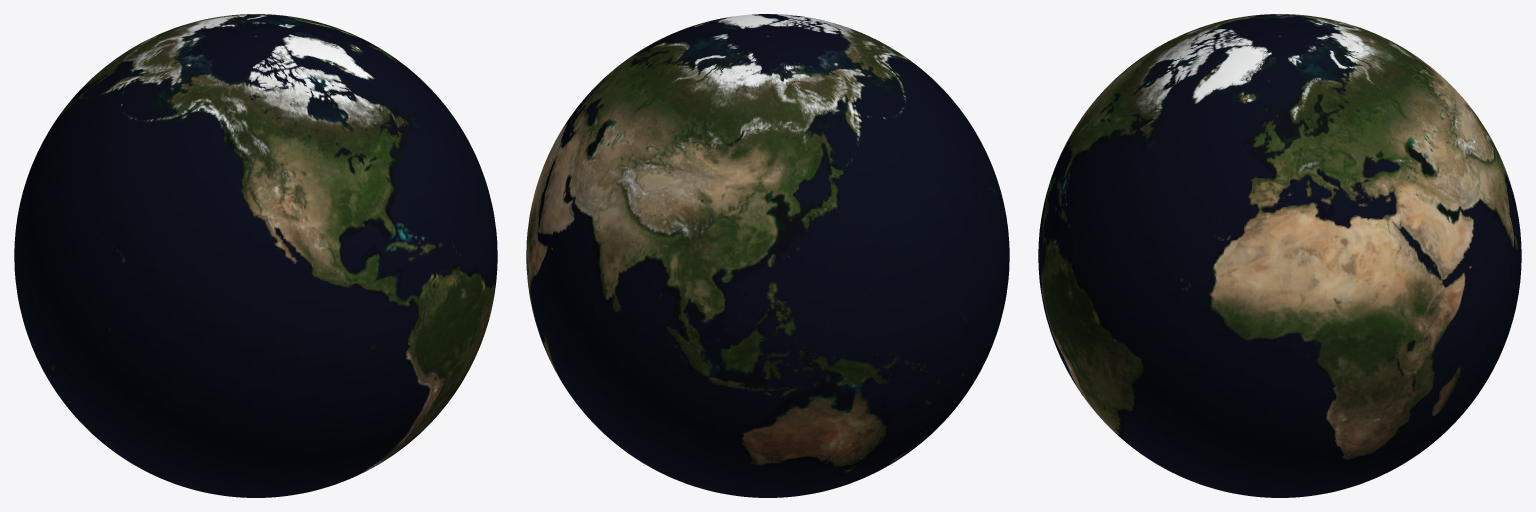
File: earth.glb
3 views of the same model, side by side, from view 1: azimuth 30°, elevation 25°; view 2: azimuth 150°, elevation 25°; view 3: azimuth 270°, elevation 25° (orthographic).
Visible parts, largest first — view 1: Sphere; view 2: Sphere; view 3: Sphere.
Boxes of the visible parts, <box> form: Sphere: <box>14,14,497,497</box>; Sphere: <box>526,14,1009,497</box>; Sphere: <box>1038,14,1521,497</box>.
Size of the model in its own units: 1.99 by 2 by 1.99.
1 material, 1 textured.
